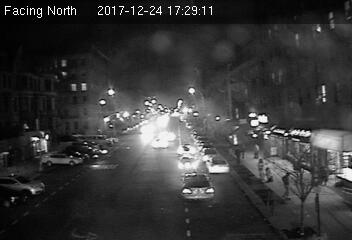car: (180, 172, 214, 201), (206, 156, 230, 174), (177, 155, 201, 172), (176, 143, 196, 155)
pedestrian: (282, 170, 292, 203)
